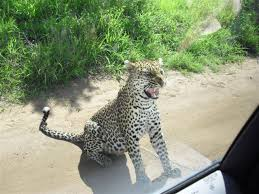leopard: (39, 54, 185, 179)
